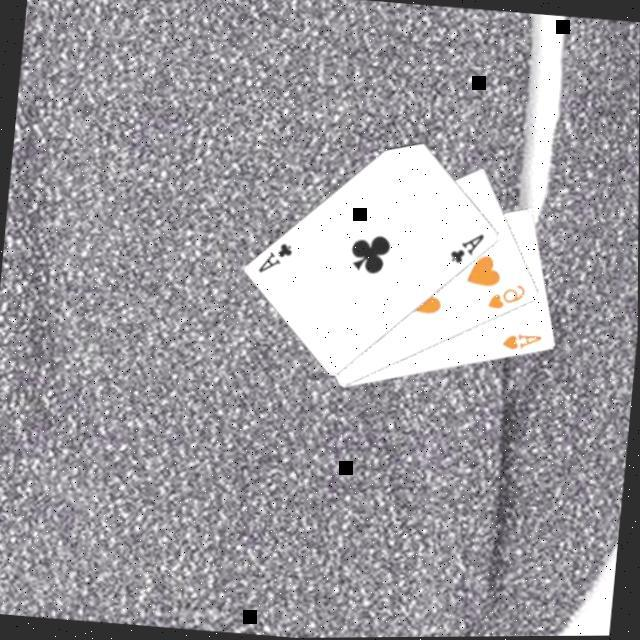6H: (483, 280, 528, 316)
AC: (445, 229, 486, 270), (253, 239, 294, 280)
AH: (497, 331, 545, 358)
